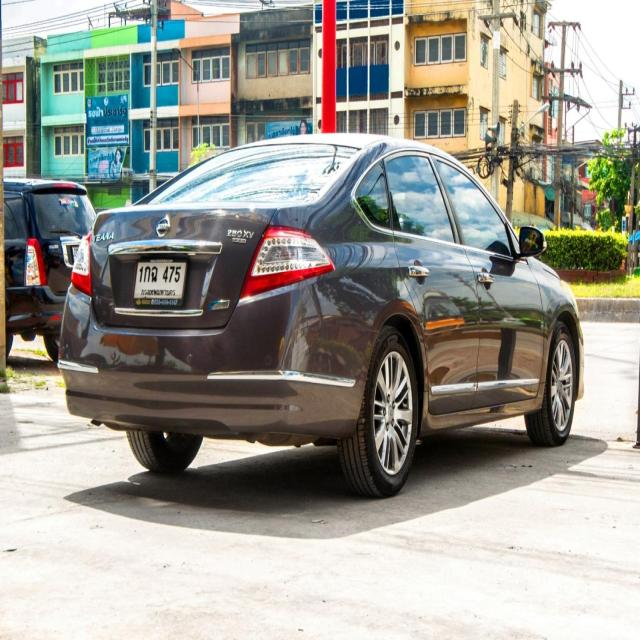license_plate: (123, 247, 191, 316)
